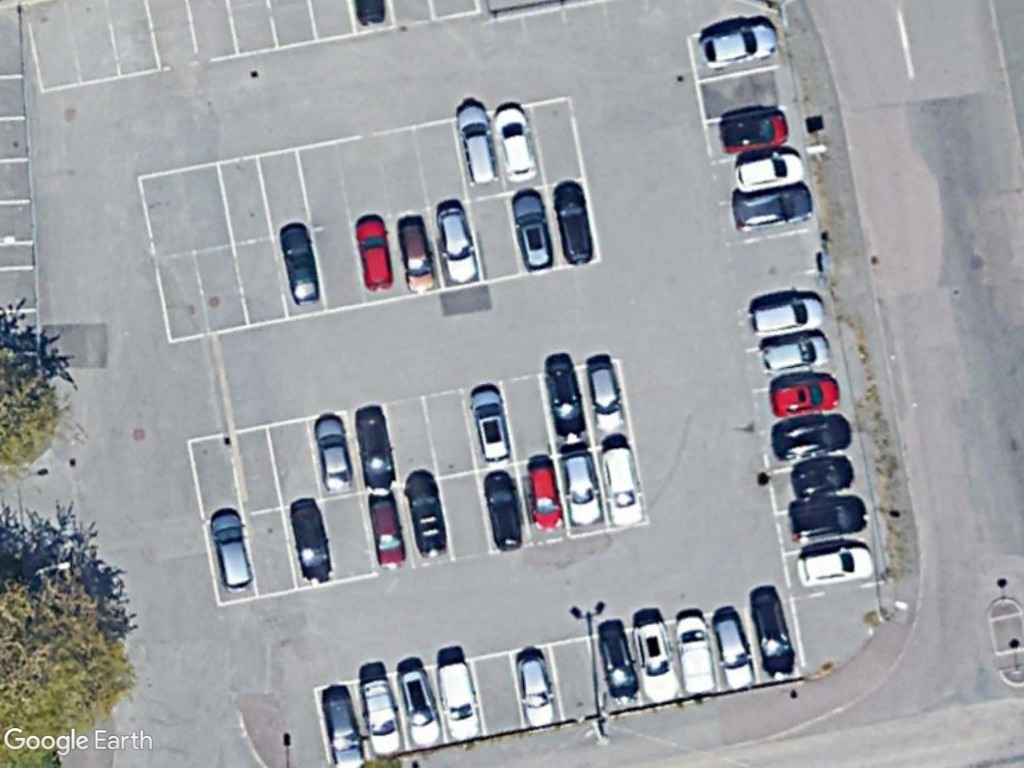car: (626, 614, 686, 712), (348, 399, 403, 502), (397, 464, 453, 564), (391, 660, 447, 756), (695, 14, 784, 74), (285, 491, 338, 590), (203, 504, 259, 597), (555, 439, 608, 534), (596, 435, 648, 531), (504, 181, 557, 275), (784, 491, 876, 545), (747, 587, 798, 683), (540, 355, 593, 447), (454, 97, 504, 194), (791, 540, 882, 593), (549, 173, 598, 270), (728, 180, 817, 233), (480, 461, 530, 555), (745, 290, 830, 345), (489, 101, 542, 189), (276, 217, 326, 310), (767, 412, 856, 464), (707, 610, 760, 697), (433, 196, 483, 288), (466, 382, 517, 472), (512, 649, 562, 735), (752, 330, 836, 381), (352, 209, 400, 298), (309, 409, 357, 497), (520, 451, 570, 535), (717, 104, 793, 159), (728, 147, 808, 199), (781, 451, 864, 501), (316, 687, 367, 768), (583, 353, 631, 439), (762, 371, 844, 421), (593, 626, 643, 706), (361, 487, 410, 568), (392, 210, 438, 296)
van: (433, 657, 486, 750), (358, 670, 408, 765), (671, 610, 719, 704)
